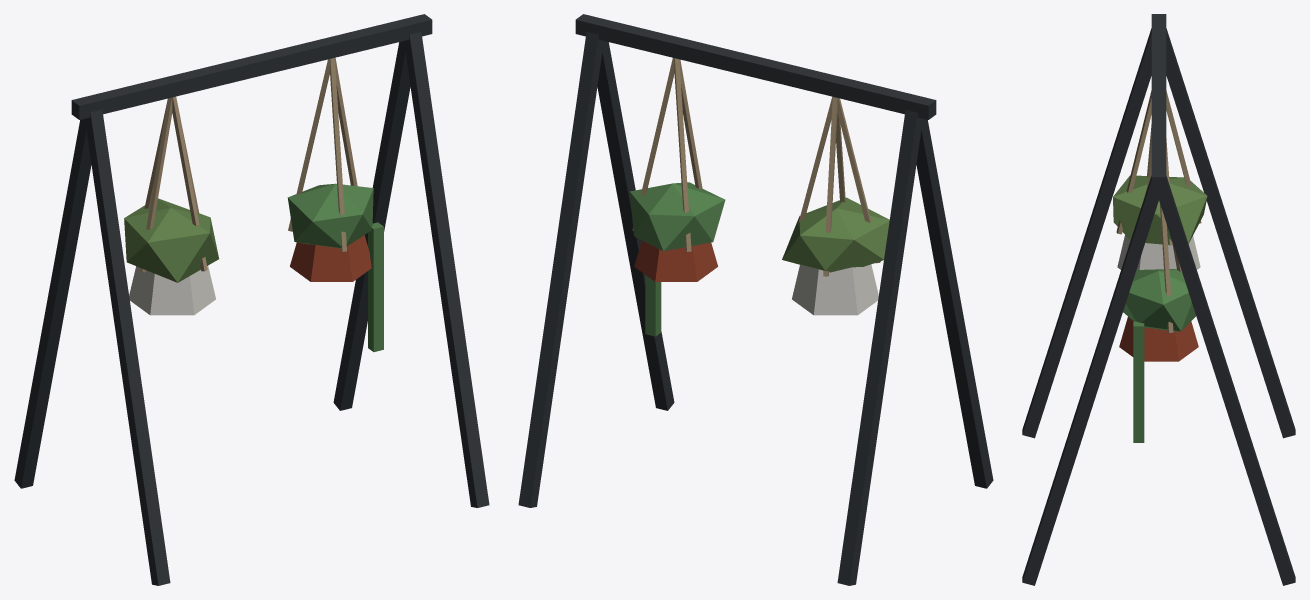
Rendered from plant-hanger-10.glb.
The picture shows the model from 3 angles, left to right: view 1: azimuth 30°, elevation 25°; view 2: azimuth 150°, elevation 25°; view 3: azimuth 270°, elevation 25°; orthographic projection. The views are drawn at different scales.
Visible parts, largest first — view 1: plant_hanger_10; view 2: plant_hanger_10; view 3: plant_hanger_10.
Part boxes in pixels (bbox=[...]): plant_hanger_10: bbox=[14, 14, 489, 585]; plant_hanger_10: bbox=[518, 14, 993, 585]; plant_hanger_10: bbox=[1022, 14, 1295, 585].
Bounding box in the file's own units: 1.04 × 1.23 × 0.7336.
